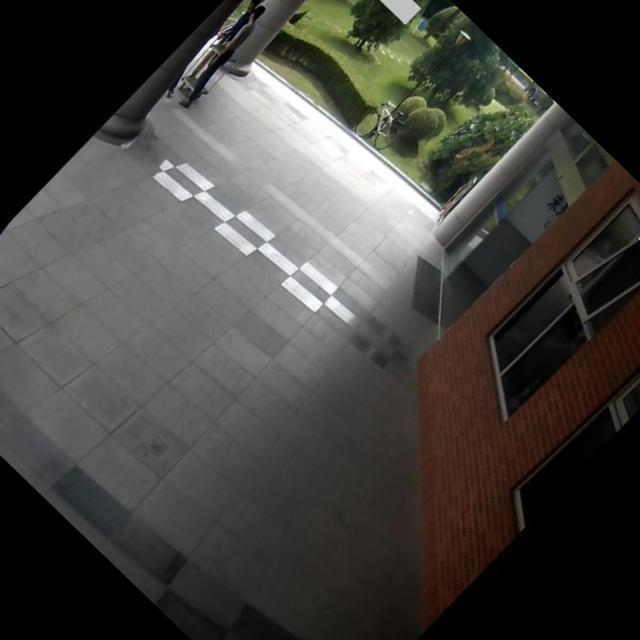person: (167, 0, 284, 116)
